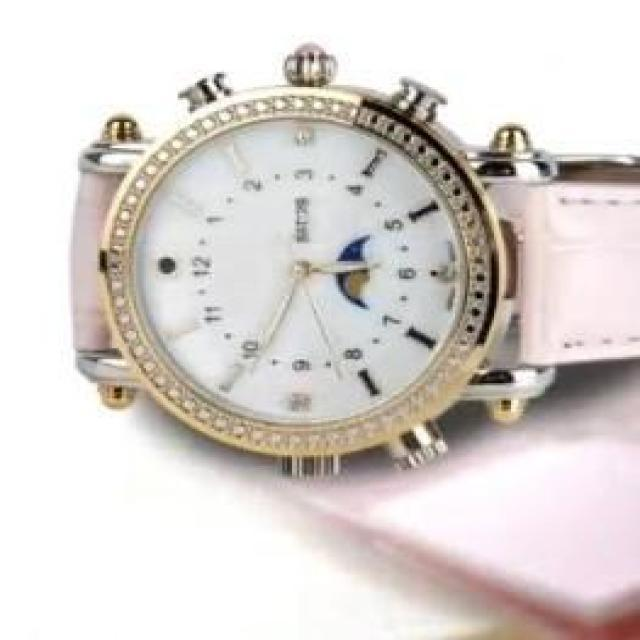hidden camera: (144, 240, 189, 287)
